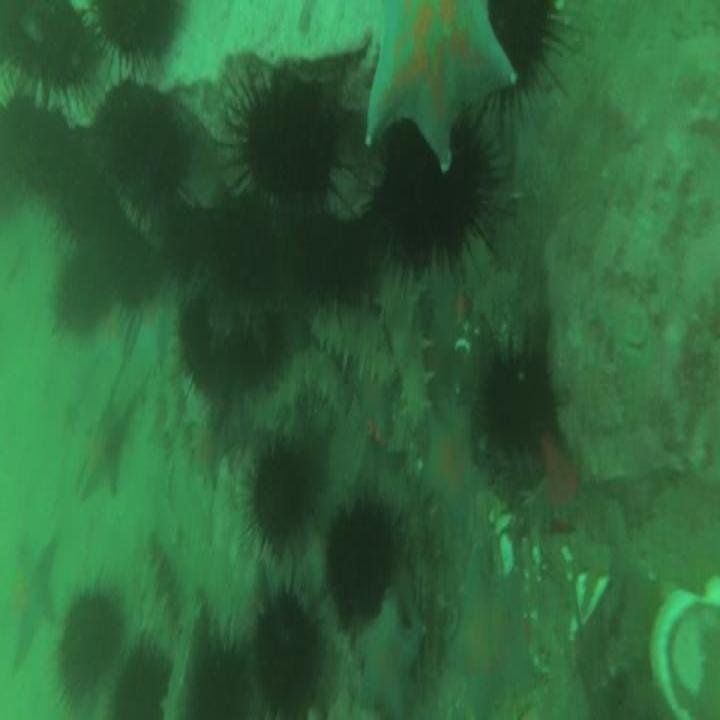echinus: (382, 133, 487, 272), (241, 71, 338, 199), (105, 94, 188, 204), (5, 4, 98, 90), (329, 500, 393, 620), (256, 598, 316, 718), (59, 592, 121, 704), (210, 194, 281, 286), (482, 356, 548, 452), (296, 214, 368, 302), (250, 446, 310, 550), (101, 0, 181, 59), (24, 108, 76, 198), (55, 254, 110, 338), (156, 204, 218, 278), (493, 0, 551, 76), (188, 647, 247, 720), (62, 169, 118, 242), (109, 229, 162, 306), (112, 647, 168, 713), (178, 309, 223, 391)
holothurian: (381, 274, 436, 428), (312, 309, 396, 386), (138, 556, 176, 662)
starfish: (368, 0, 518, 167), (445, 556, 535, 716), (359, 599, 420, 715), (7, 532, 56, 674), (425, 411, 486, 524), (77, 404, 131, 496), (189, 407, 229, 480)
